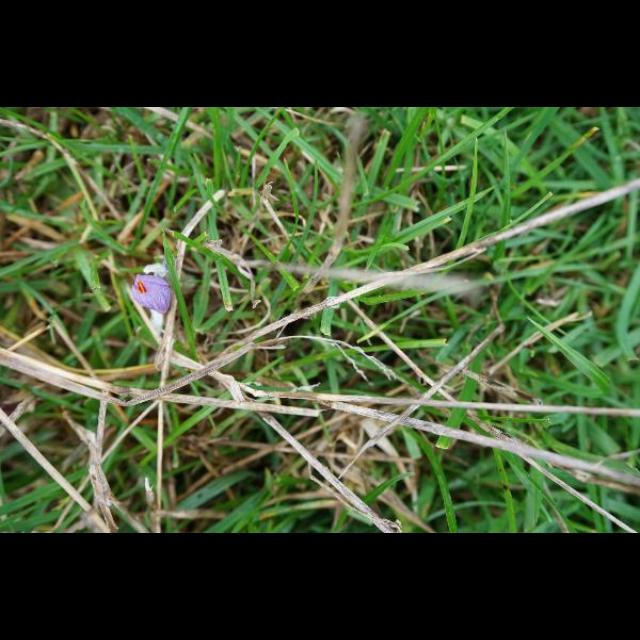flower: (132, 274, 174, 314)
